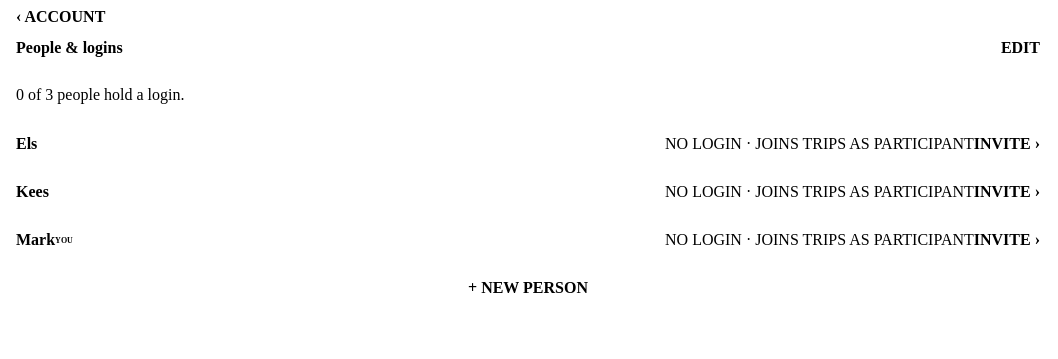
the People screen › offers RENAME only inside EDIT mode
Check: the button "RENAME" is not shown
Click the button "EDIT" at x=1020, y=48, box [1001, 26, 1040, 70]
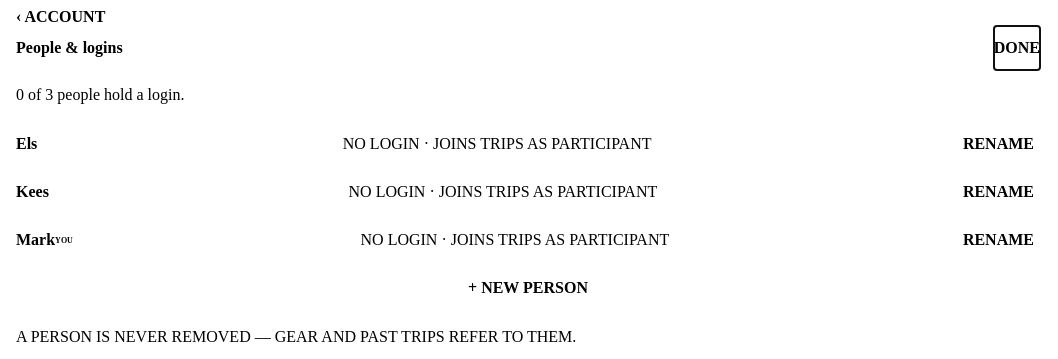
Check: the button "RENAME" in the row of "Els" is shown, box [957, 120, 1040, 168]
